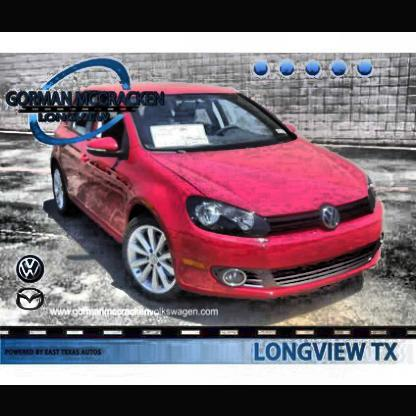Volkswagen Golf Hatchback 2012: (53, 87, 384, 304)
